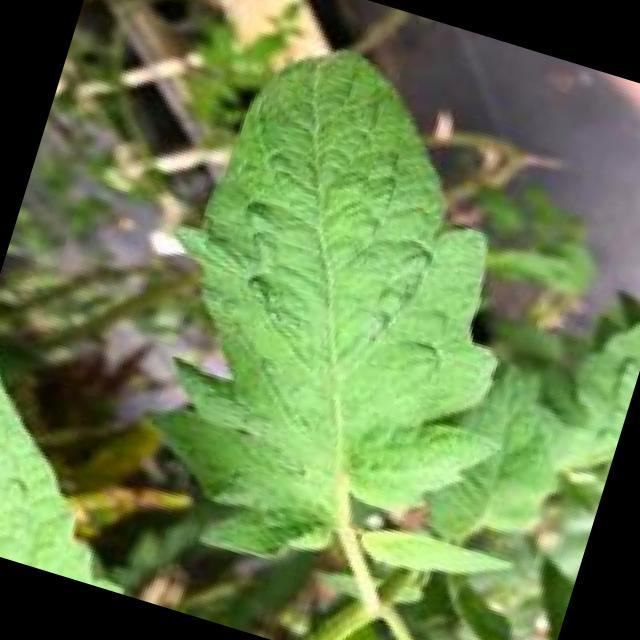Tomato healthy leaf: (93, 11, 637, 608)
